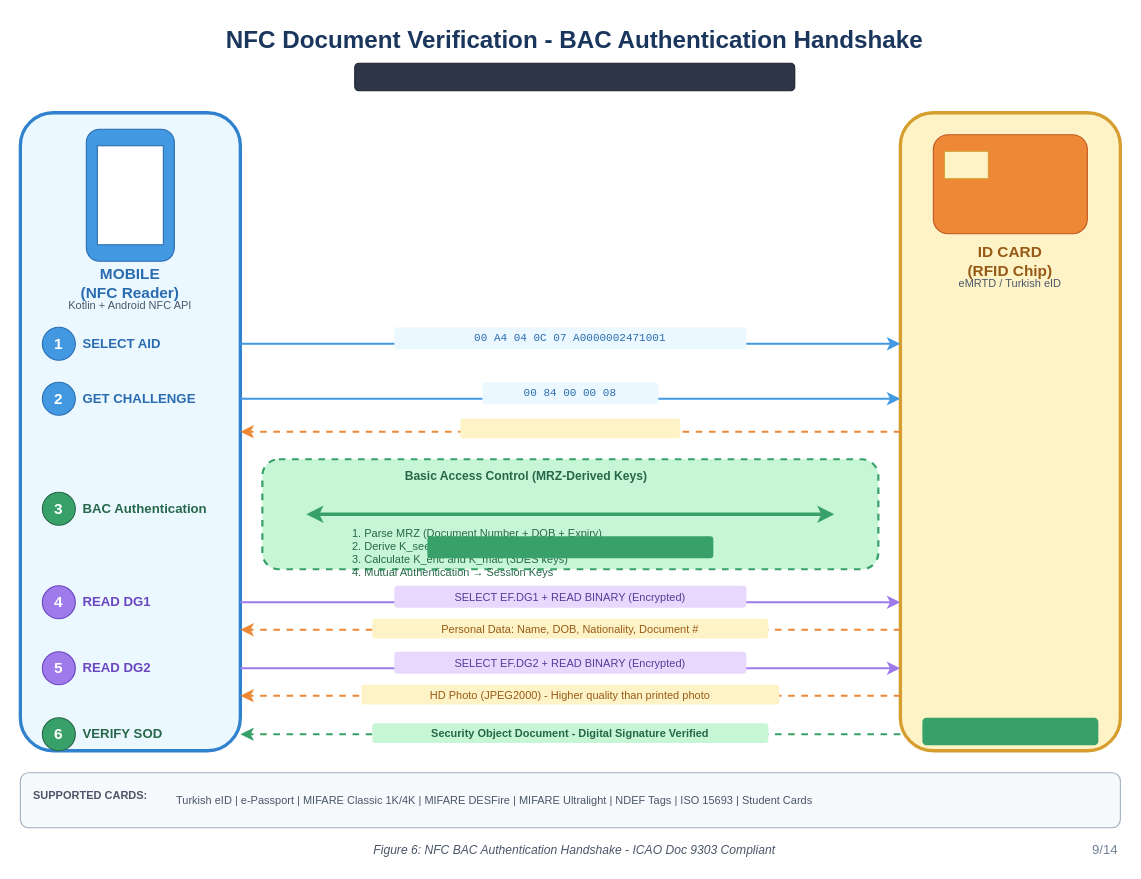
The diagram is 1141 pixels wide and 879 high, and some of its shapes have lost their labels. The shapes that lost their labels are listed below. From the top down, each one's box as (x1, y1, x2, y2) in pixels, then its label:
(354, 62, 795, 91): ICAO Doc 9303 | ISO/IEC 14443 | ISO 7816-4
(943, 150, 988, 179): CHIP
(460, 418, 680, 438): RND.IC (8 bytes random)
(427, 536, 713, 558): 3DES Secure Messaging Established
(922, 717, 1098, 745): ✓ DOCUMENT AUTHENTIC
